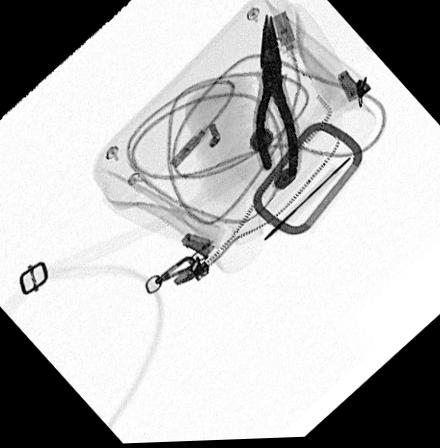Pliers: (254, 13, 300, 184)
